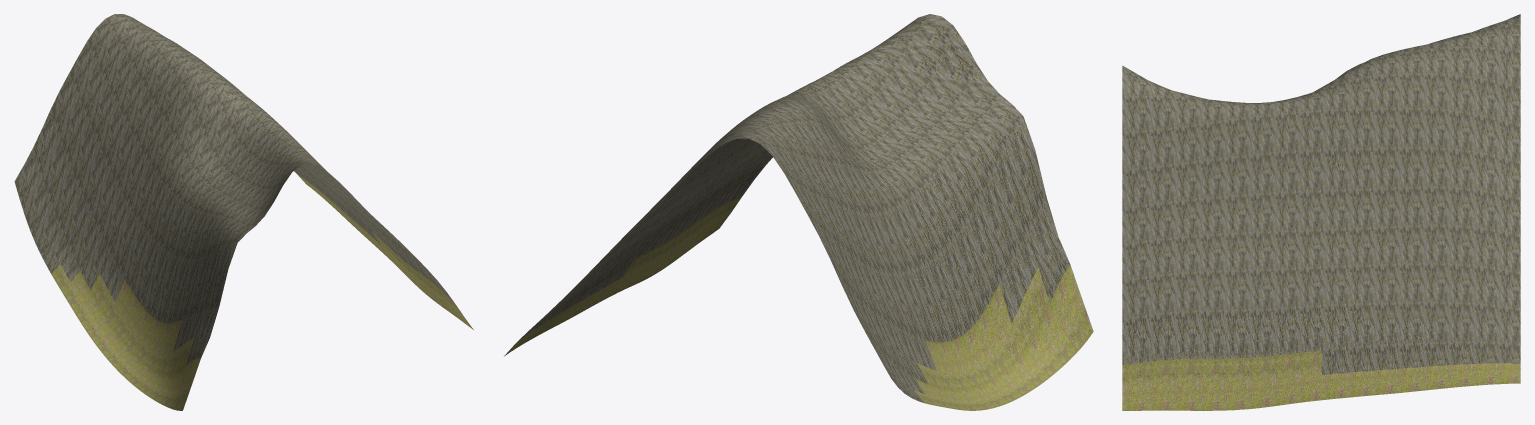
The model's file is chunk_2_1.glb.
The picture shows the model from 3 angles, left to right: view 1: azimuth 30°, elevation 25°; view 2: azimuth 150°, elevation 25°; view 3: azimuth 270°, elevation 25°; orthographic projection. The views are drawn at different scales.
Parts seen in each view (by area): view 1: chunk_2_1-col; view 2: chunk_2_1-col; view 3: chunk_2_1-col.
Part boxes in pixels (x1,y1,x2,y2): chunk_2_1-col: (14,14,473,410); chunk_2_1-col: (504,14,1093,410); chunk_2_1-col: (1122,14,1520,410).
Bounding box in the file's own units: 64 × 54.57 × 64.
2 materials, 2 textured.
